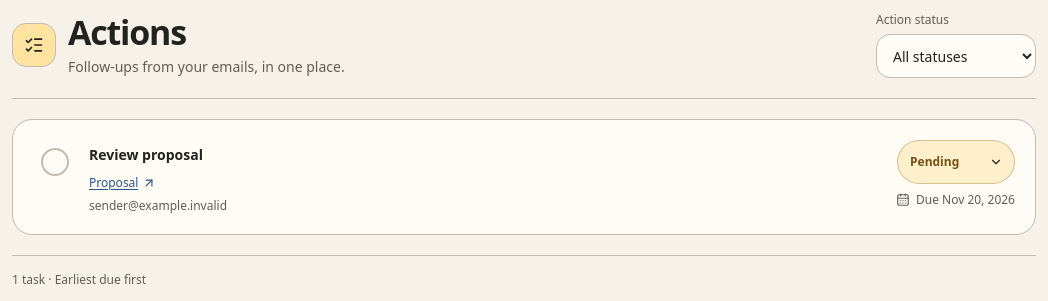
Test: offers one-click completion and hides pagination for a single page
Click the button named "Mark task complete: Review proposal" at [55, 162], box [33,140,77,184]
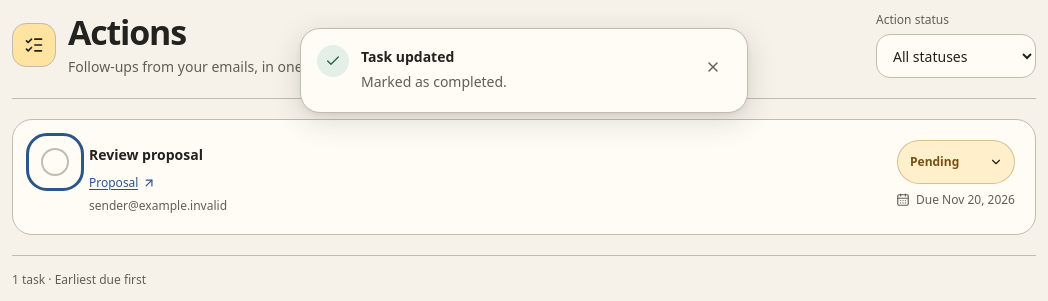
Check: the element named "Notifications" shows "Task updated", box [361,47,454,66]
